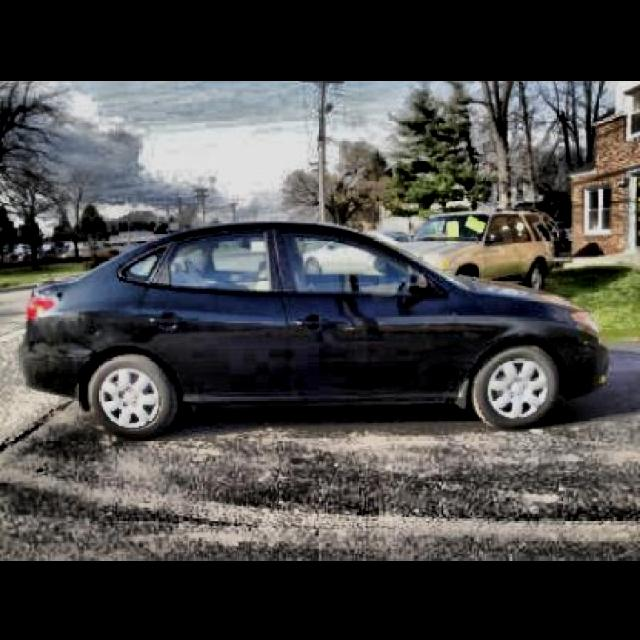black: (0, 233, 616, 441)
